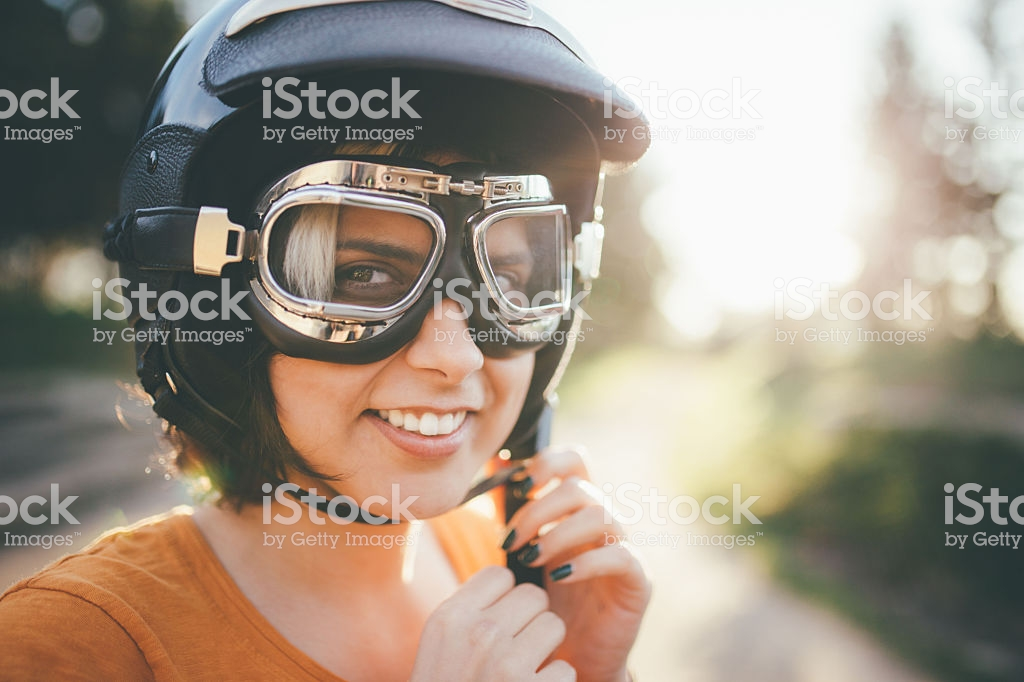helmet: (132, 14, 600, 266)
